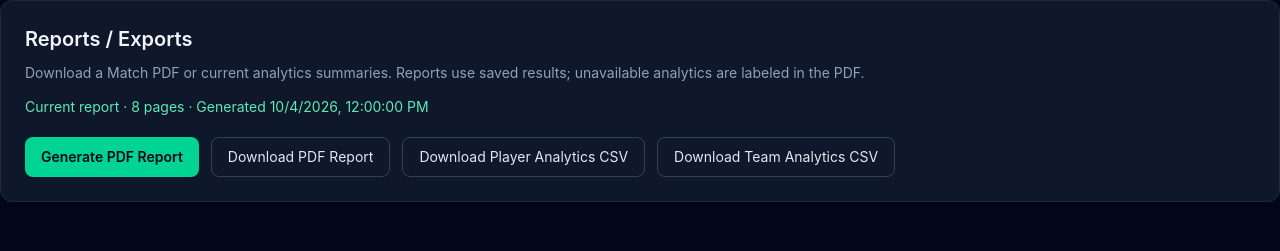
Scenario: authenticated downloads › shows a safe download error for status 409
Expected: the text "Current report · 8 pages · Generated 10/4/2026, 12:00:00 PM" is shown, [25,98,429,115]
Click the button "Download PDF Report". click: click(301, 157)
box: [211,137,390,177]
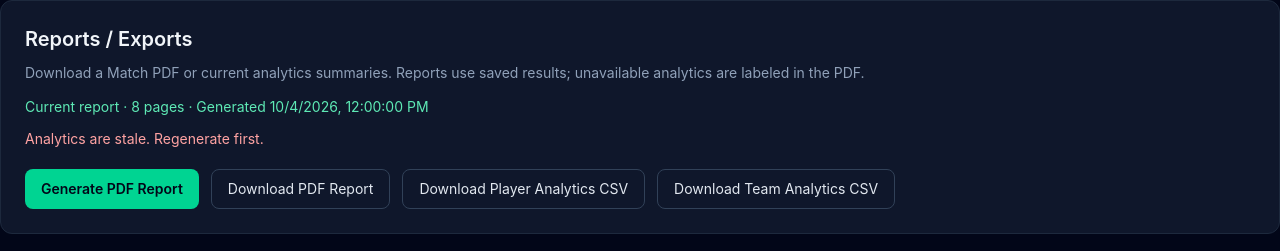
Expected: the message does not show "/private/trace", [25,130,264,147]
Result: the message shows "Analytics are stale" at [25,130,264,147]
